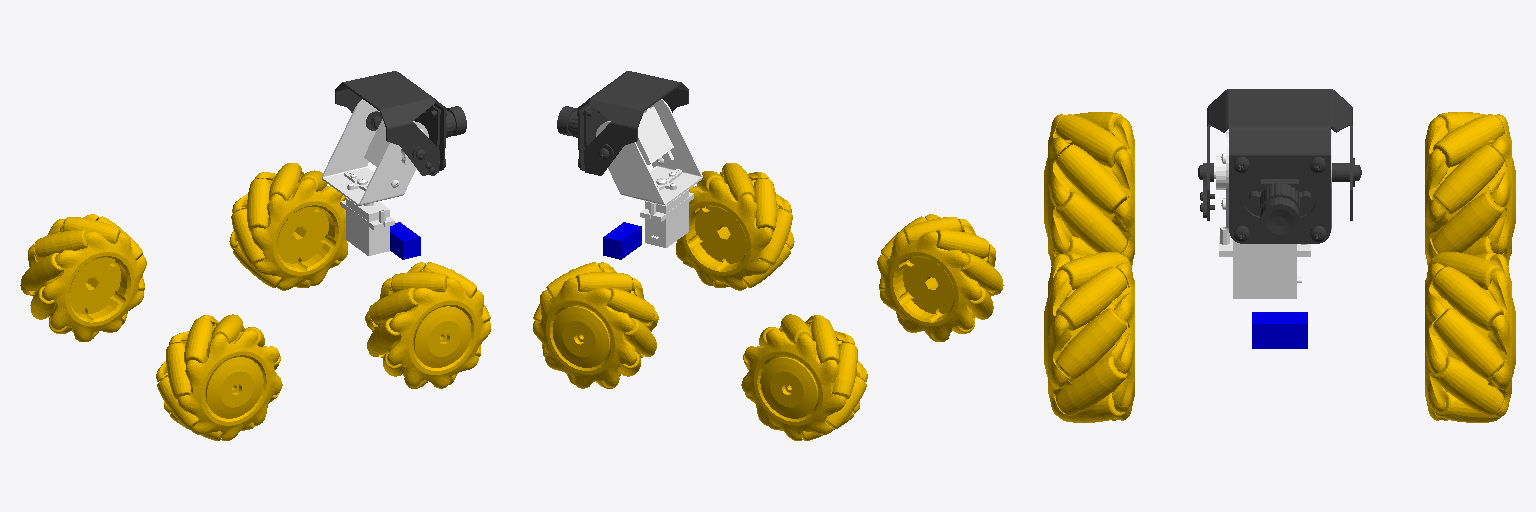
The robot description file, URDF, robot "Raspbot-V2":
<?xml version="1.0"?>


<!-- This URDF was automatically created by SolidWorks to URDF Exporter! Originally created by

Stephen Brawner (brawner@gmail.com)



Commit Version: 1.6.0-4-g7f85cfe Build Version: 1.6.7995.38578



For more information, please see http://wiki.ros.org/sw_urdf_exporter -->


<robot
  name="Raspbot-V2">


  <link
    name="base_link">


    <inertial>


      <origin
        xyz="0.015579414282182 0.00033454072034559 0.0254083238154235"
        rpy="0 0 0" />


      <mass
        value="0.277266847071949" />


      <inertia
        ixx="0.000119879638808664"
        ixy="-3.27505120052508E-08"
        ixz="-4.16555813478142E-08"
        iyy="0.000209925057802856"
        iyz="2.76418622766581E-07"
        izz="0.000302025657109559" />


    </inertial>


    <visual>


      <origin
        xyz="0 0 0"
        rpy="0 0 0" />


      <geometry>


        <mesh
          filename="package://yahboomcar_description/meshes/base_link.STL" />


      </geometry>


      <material
        name="">


        <color
          rgba="0.203921568627451 0.203921568627451 0.203921568627451 1" />


      </material>


    </visual>


    <collision>


      <origin
        xyz="0 0 0"
        rpy="0 0 0" />


      <geometry>


        <mesh
          filename="package://yahboomcar_description/meshes/base_link.STL" />


      </geometry>


    </collision>


  </link>


  <link
    name="l1_Link">


    <inertial>


      <origin
        xyz="1.78446179707747E-08 0.00115093443907621 -8.02931999499545E-08"
        rpy="0 0 0" />


      <mass
        value="0.0621175903492224" />


      <inertia
        ixx="1.60210369337653E-05"
        ixy="3.43785525584805E-11"
        ixz="-9.02615043713342E-12"
        iyy="2.5769061705676E-05"
        iyz="1.35066118057968E-11"
        izz="1.60211213285766E-05" />


    </inertial>


    <visual>


      <origin
        xyz="0 0 0"
        rpy="0 0 0" />


      <geometry>


        <mesh
          filename="package://yahboomcar_description/meshes/l1_Link.STL" />


      </geometry>


      <material
        name="">


        <color
          rgba="0.968627450980392 0.76078431372549 0 1" />


      </material>


    </visual>


    <collision>


      <origin
        xyz="0 0 0"
        rpy="0 0 0" />


      <geometry>


        <mesh
          filename="package://yahboomcar_description/meshes/l1_Link.STL" />


      </geometry>


    </collision>


  </link>


  <joint
    name="l1_Joint"
    type="continuous">


    <origin
      xyz="0.0566 0.0662749999999989 0.0162499999999997"
      rpy="0 0 0" />


    <parent
      link="base_link" />


    <child
      link="l1_Link" />


    <axis
      xyz="0 1 0" />


  </joint>


  <link
    name="l2__Link">


    <inertial>


      <origin
        xyz="2.2803558083484E-08 0.00115089560460579 -8.67083690958559E-09"
        rpy="0 0 0" />


      <mass
        value="0.0621182459482163" />


      <inertia
        ixx="1.60212407380175E-05"
        ixy="-3.41279855186522E-12"
        ixz="5.68778362057558E-11"
        iyy="2.57691020675976E-05"
        iyz="-2.19119695751134E-11"
        izz="1.60211497078259E-05" />


    </inertial>


    <visual>


      <origin
        xyz="0 0 0"
        rpy="0 0 0" />


      <geometry>


        <mesh
          filename="package://yahboomcar_description/meshes/l2_Link.STL" />


      </geometry>


      <material
        name="">


        <color
          rgba="0.968627450980392 0.76078431372549 0 1" />


      </material>


    </visual>


    <collision>


      <origin
        xyz="0 0 0"
        rpy="0 0 0" />


      <geometry>


        <mesh
          filename="package://yahboomcar_description/meshes/l2_Link.STL" />


      </geometry>


    </collision>


  </link>


  <joint
    name="l2_Joint"
    type="continuous">


    <origin
      xyz="-0.0605999999999997 0.0662749999999983 0.0162500000000017"
      rpy="0 0 0" />


    <parent
      link="base_link" />


    <child
      link="l2__Link" />


    <axis
      xyz="0 1 0" />


  </joint>


  <link
    name="r1_Link">


    <inertial>


      <origin
        xyz="7.51903645040963E-08 -0.00115088315214759 -1.72979823520603E-08"
        rpy="0 0 0" />


      <mass
        value="0.0621184289730623" />


      <inertia
        ixx="1.60212009784984E-05"
        ixy="-2.99625133670286E-11"
        ixz="-2.40881432794494E-11"
        iyy="2.57692344855104E-05"
        iyz="-4.52750714768719E-11"
        izz="1.60213367542239E-05" />


    </inertial>


    <visual>


      <origin
        xyz="0 0 0"
        rpy="0 0 0" />


      <geometry>


        <mesh
          filename="package://yahboomcar_description/meshes/r1_Link.STL" />


      </geometry>


      <material
        name="">


        <color
          rgba="0.968627450980392 0.76078431372549 0 1" />


      </material>


    </visual>


    <collision>


      <origin
        xyz="0 0 0"
        rpy="0 0 0" />


      <geometry>


        <mesh
          filename="package://yahboomcar_description/meshes/r1_Link.STL" />


      </geometry>


    </collision>


  </link>


  <joint
    name="r1_Joint"
    type="continuous">


    <origin
      xyz="0.0566 -0.0662750000000001 0.0162500000000003"
      rpy="0 0 0" />


    <parent
      link="base_link" />


    <child
      link="r1_Link" />


    <axis
      xyz="0 1 0" />


  </joint>


  <link
    name="r2_Link">


    <inertial>


      <origin
        xyz="7.74810646891888E-08 -0.00115093470192544 2.52953823443036E-08"
        rpy="0 0 0" />


      <mass
        value="0.0621175854362522" />


      <inertia
        ixx="1.60211070245519E-05"
        ixy="-5.45644401826571E-12"
        ixz="3.22370881509542E-11"
        iyy="2.57690598424952E-05"
        iyz="3.70605115609442E-11"
        izz="1.60210484479826E-05" />


    </inertial>


    <visual>


      <origin
        xyz="0 0 0"
        rpy="0 0 0" />


      <geometry>


        <mesh
          filename="package://yahboomcar_description/meshes/r2_Link.STL" />


      </geometry>


      <material
        name="">


        <color
          rgba="0.968627450980392 0.76078431372549 0 1" />


      </material>


    </visual>


    <collision>


      <origin
        xyz="0 0 0"
        rpy="0 0 0" />


      <geometry>


        <mesh
          filename="package://yahboomcar_description/meshes/r2_Link.STL" />


      </geometry>


    </collision>


  </link>


  <joint
    name="r2_Joint"
    type="continuous">


    <origin
      xyz="-0.0605999999999998 -0.0662750000000001 0.0162500000000018"
      rpy="0 0 0" />


    <parent
      link="base_link" />


    <child
      link="r2_Link" />


    <axis
      xyz="0 1 0" />


  </joint>


  <link
    name="arm1_Link">


    <inertial>


      <origin
        xyz="0.00683637702872688 -0.0056586005709569 0.0106794777164742"
        rpy="0 0 0" />


      <mass
        value="0.0185757715462679" />


      <inertia
        ixx="2.31300523163086E-06"
        ixy="-1.46375070607455E-09"
        ixz="-2.69021062043065E-07"
        iyy="1.41438797000959E-06"
        iyz="-2.57373175363647E-08"
        izz="1.7679481913112E-06" />


    </inertial>


    <visual>


      <origin
        xyz="0 0 0"
        rpy="0 0 0" />


      <geometry>


        <mesh
          filename="package://yahboomcar_description/meshes/arm1_Link.STL" />


      </geometry>


      <material
        name="">


        <color
          rgba="1 1 1 1" />


      </material>


    </visual>


    <collision>


      <origin
        xyz="0 0 0"
        rpy="0 0 0" />


      <geometry>


        <mesh
          filename="package://yahboomcar_description/meshes/arm1_Link.STL" />


      </geometry>


    </collision>


  </link>


  <joint
    name="arm1_Joint"
    type="fixed">


    <origin
      xyz="0.0580000000000002 0 0.0575000000000019"
      rpy="0 0 0" />


    <parent
      link="base_link" />


    <child
      link="arm1_Link" />


    <axis
      xyz="0 0 1" />


    <limit
      lower="0"
      upper="0"
      effort="0"
      velocity="0" />


  </joint>


  <link
    name="arm2_Link">


    <inertial>


      <origin
        xyz="0.0135675940886932 0.0188776198697839 0.00259174889573699"
        rpy="0 0 0" />


      <mass
        value="0.0133313425891697" />


      <inertia
        ixx="1.97424244741482E-06"
        ixy="2.11903184025763E-09"
        ixz="2.61235056695239E-07"
        iyy="1.52500945654192E-06"
        iyz="4.39036974631989E-09"
        izz="1.98147244330847E-06" />


    </inertial>


    <visual>


      <origin
        xyz="0 0 0"
        rpy="0 0 0" />


      <geometry>


        <mesh
          filename="package://yahboomcar_description/meshes/arm2_Link.STL" />


      </geometry>


      <material
        name="">


        <color
          rgba="0.298039215686275 0.298039215686275 0.298039215686275 1" />


      </material>


    </visual>


    <collision>


      <origin
        xyz="0 0 0"
        rpy="0 0 0" />


      <geometry>


        <mesh
          filename="package://yahboomcar_description/meshes/arm2_Link.STL" />


      </geometry>


    </collision>


  </link>


  <joint
    name="arm2_Joint"
    type="fixed">


    <origin
      xyz="0.0168644546973269 -0.0180500000000011 0.0314594573193254"
      rpy="0 0 0" />


    <parent
      link="arm1_Link" />


    <child
      link="arm2_Link" />


    <axis
      xyz="0 -1 0" />


    <limit
      lower="0"
      upper="0"
      effort="0"
      velocity="0" />


  </joint>


  <link name="global_shutter_camera">


    <visual>


      <origin xyz="0 0 0" rpy="0 0 0" />


      <geometry>

        <box size="0.01 0.02 0.01" />

      </geometry>


      <material name="blue">

        <color rgba="0 0 1 1" />

      </material>


    </visual>


  </link>


  <joint name="global_shutter_camera_joint" type="fixed">


    <parent link="base_link" />


    <child link="global_shutter_camera" />


    <origin xyz="0.08 0 0.030" rpy="0 1.5708 0" />


  </joint>


  <link name="camera_optical_link" />


  <joint name="camera_optical_joint" type="fixed">


    <parent link="global_shutter_camera" />


    <child link="camera_optical_link" />


    <origin xyz="0 0 0" rpy="-1.5708 0 -1.5708" />


  </joint>


  <gazebo>

    <plugin name="raspbot_skid_steer_drive" filename="libgazebo_ros_diff_drive.so">

      <ros>

        <namespace>/</namespace>

      </ros>


      <num_wheel_pairs>2</num_wheel_pairs>


      <left_joint>l1_Joint</left_joint>

      <right_joint>r1_Joint</right_joint>


      <left_joint>l2_Joint</left_joint>

      <right_joint>r2_Joint</right_joint>


      <wheel_separation>0.13</wheel_separation>

      <wheel_diameter>0.065</wheel_diameter>


      <publish_odom>true</publish_odom>

      <publish_odom_tf>true</publish_odom_tf>

      <publish_wheel_tf>true</publish_wheel_tf>


      <odometry_frame>odom</odometry_frame>

      <robot_base_frame>base_link</robot_base_frame>

      <!-- [추가] 시뮬레이션 안정성을 위한 파라미터 -->
      <max_wheel_acceleration>1.0</max_wheel_acceleration>
      <max_wheel_torque>20</max_wheel_torque>
      <odometry_source>1</odometry_source> <!-- 0: ENCODER, 1: WORLD (시뮬레이션에서는 WORLD가 정확함) -->

    </plugin>

  </gazebo>


  <gazebo reference="global_shutter_camera">

    <sensor name="downward_camera" type="camera">

      <update_rate>30.0</update_rate>

      <camera name="head">

        <horizontal_fov>1.085595</horizontal_fov>

        <image>

          <width>640</width>

          <height>480</height>

          <format>R8G8B8</format>

        </image>

        <clip>

          <near>0.01</near>

          <far>1.0</far>

        </clip>

      </camera>

      <plugin name="camera_controller" filename="libgazebo_ros_camera.so">

        <ros>

          <node_name>downward_camera_node</node_name>

        </ros>

        <camera_name>downward_camera</camera_name>

        <frame_name>camera_optical_link</frame_name>

      </plugin>

    </sensor>

  </gazebo>

  <!-- 로봇 색상 (Gazebo용) -->
  <gazebo reference="base_link">
    <material>Gazebo/DarkGrey</material>
  </gazebo>

  <gazebo reference="l1_Link">
    <material>Gazebo/Yellow</material>
  </gazebo>

  <gazebo reference="l2__Link">
    <material>Gazebo/Yellow</material>
  </gazebo>

  <gazebo reference="r1_Link">
    <material>Gazebo/Yellow</material>
  </gazebo>

  <gazebo reference="r2_Link">
    <material>Gazebo/Yellow</material>
  </gazebo>

  <gazebo reference="arm1_Link">
    <material>Gazebo/Grey</material>
  </gazebo>

  <gazebo reference="arm2_Link">
    <material>Gazebo/Grey</material>
  </gazebo>

  <gazebo reference="global_shutter_camera">
    <material>Gazebo/Blue</material>
  </gazebo>

</robot>

--- Facts derived from the render (not from the file) ---
3 views of the same robot in one strip: view 1: azimuth 30°, elevation 25°; view 2: azimuth 150°, elevation 25°; view 3: azimuth 270°, elevation 25° (orthographic).
Robot: Raspbot-V2 — 9 links, 8 joints (4 continuous, 4 fixed); root link base_link; default pose: every joint at zero.
Visible links, largest first — view 1: l2__Link, r2_Link, r1_Link, l1_Link, arm1_Link, arm2_Link, global_shutter_camera; view 2: r2_Link, l2__Link, l1_Link, r1_Link, arm1_Link, arm2_Link, global_shutter_camera; view 3: arm2_Link, l1_Link, r1_Link, r2_Link, l2__Link, arm1_Link, global_shutter_camera.
Boxes of the visible links, x1,y1,x2,y2 form: l2__Link: (20, 214, 146, 341); r2_Link: (156, 314, 282, 440); r1_Link: (365, 262, 490, 388); l1_Link: (229, 163, 347, 290); arm1_Link: (322, 99, 428, 255); arm2_Link: (335, 71, 466, 175); global_shutter_camera: (390, 222, 420, 259); r2_Link: (877, 214, 1003, 341); l2__Link: (741, 314, 867, 440); l1_Link: (533, 262, 658, 388); r1_Link: (676, 163, 794, 290); arm1_Link: (596, 99, 702, 247); arm2_Link: (557, 71, 688, 175); global_shutter_camera: (603, 222, 641, 259); arm2_Link: (1198, 89, 1361, 243); l1_Link: (1425, 252, 1515, 422); r1_Link: (1044, 252, 1134, 422); r2_Link: (1044, 112, 1134, 265); l2__Link: (1425, 112, 1515, 265); arm1_Link: (1214, 132, 1331, 298); global_shutter_camera: (1252, 312, 1307, 348).
Size in the robot's own frame: 0.2039 by 0.1658 by 0.1274 metres.
Meshes: 7 distinct files referenced, 6 mesh visuals loaded (6 binary STL); not drawn: 1 (reference not matched to a file when rendering).
